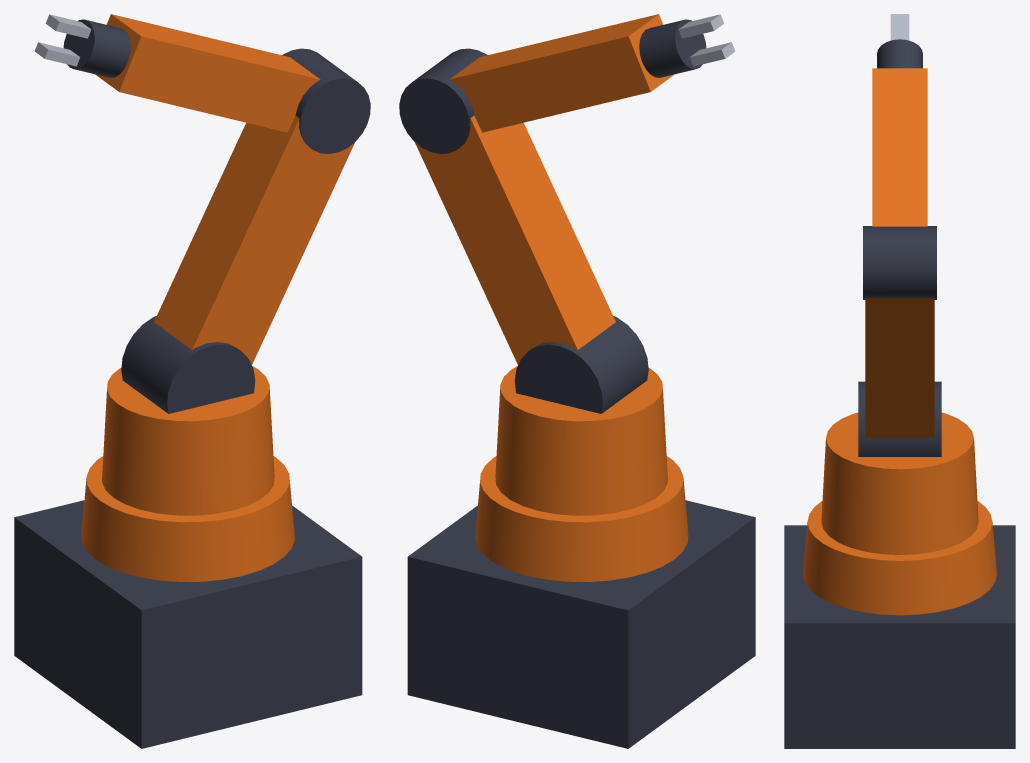
The model's file is ind-010.glb.
The picture shows the model from 3 angles, left to right: view 1: azimuth 30°, elevation 25°; view 2: azimuth 150°, elevation 25°; view 3: azimuth 270°, elevation 25°; orthographic projection. The views are drawn at different scales.
Parts seen in each view (by area): view 1: dark_steel, robot_orange, steel; view 2: dark_steel, robot_orange, steel; view 3: robot_orange, dark_steel, steel.
Part boxes in pixels (x1=…): dark_steel: x1=14, y1=19, x2=370, y2=748; robot_orange: x1=81, y1=14, x2=354, y2=581; steel: x1=34, y1=14, x2=91, y2=66; dark_steel: x1=399, y1=19, x2=755, y2=748; robot_orange: x1=415, y1=14, x2=688, y2=581; steel: x1=678, y1=14, x2=735, y2=66; robot_orange: x1=803, y1=68, x2=996, y2=615; dark_steel: x1=784, y1=39, x2=1015, y2=748; steel: x1=890, y1=14, x2=909, y2=40.
Size of the model in its own units: 1.41 by 2.99 by 1.
